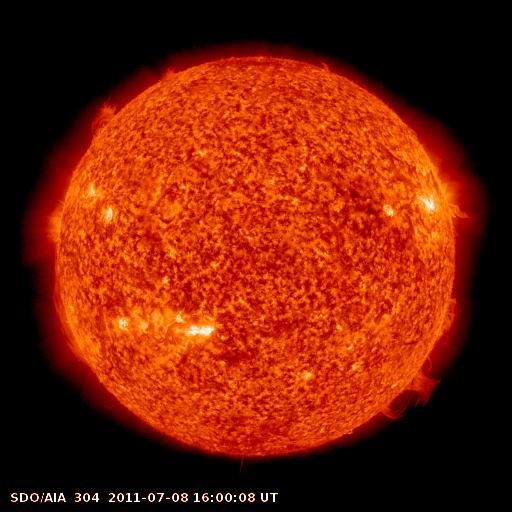prominence: (373, 354, 446, 423), (46, 266, 92, 367), (84, 90, 125, 148), (443, 182, 475, 249), (427, 293, 467, 346)
